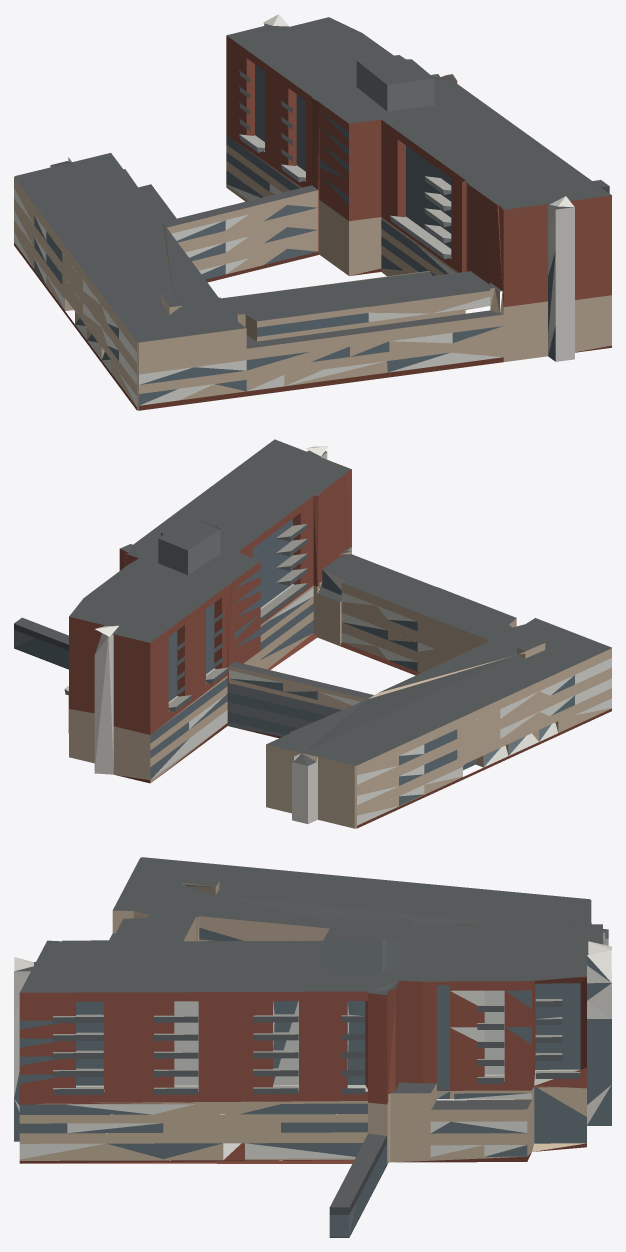
Rendered from kramatplantsoen-203.lod2.glb.
3 renders of one model, top to bottom at view 1: azimuth 30°, elevation 25°; view 2: azimuth 150°, elevation 25°; view 3: azimuth 270°, elevation 25°, orthographic. The views are drawn at different scales.
Visible parts, largest first — view 1: lod2; view 2: lod2; view 3: lod2.
Part boxes in pixels (left/top/right/bottom): lod2: left=14, top=14, right=611, bottom=410; lod2: left=14, top=439, right=611, bottom=828; lod2: left=14, top=857, right=611, bottom=1237.
Bounding box in the file's own units: 99.7 × 30.71 × 82.83.
